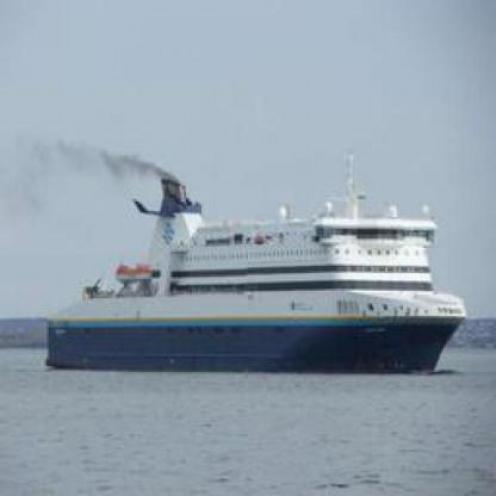Ship: (26, 184, 468, 383)
